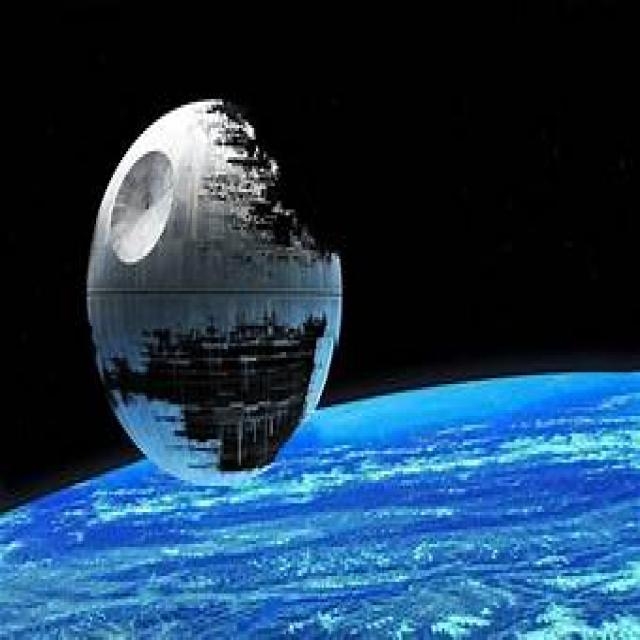deathStar: (79, 94, 346, 484)
